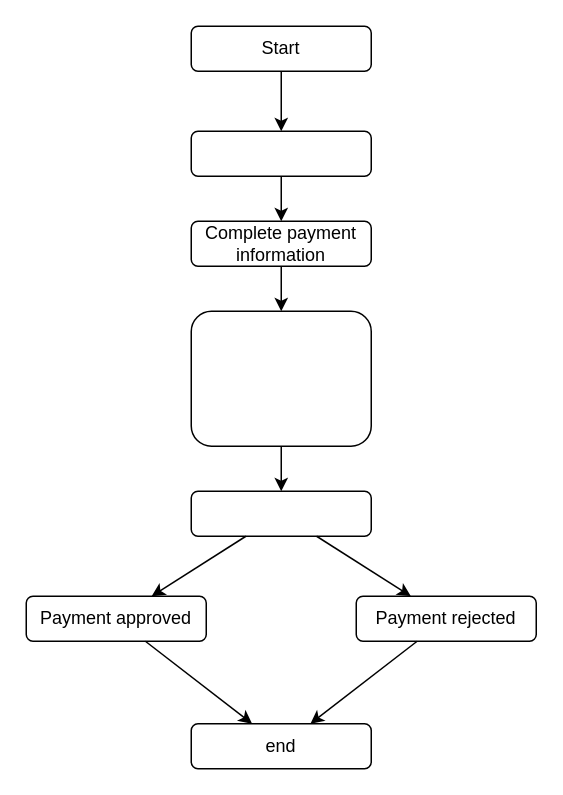
This 563x795 diagram has some shape labels left out. Here are the shapes that lost their labels. From the top down, the centre of each, then its label:
At point 280,153: "User registration".
At point 280,378: "Amount, currency, payment type, comment, billing information, attach of payment".
At point 280,513: "Admin review".
